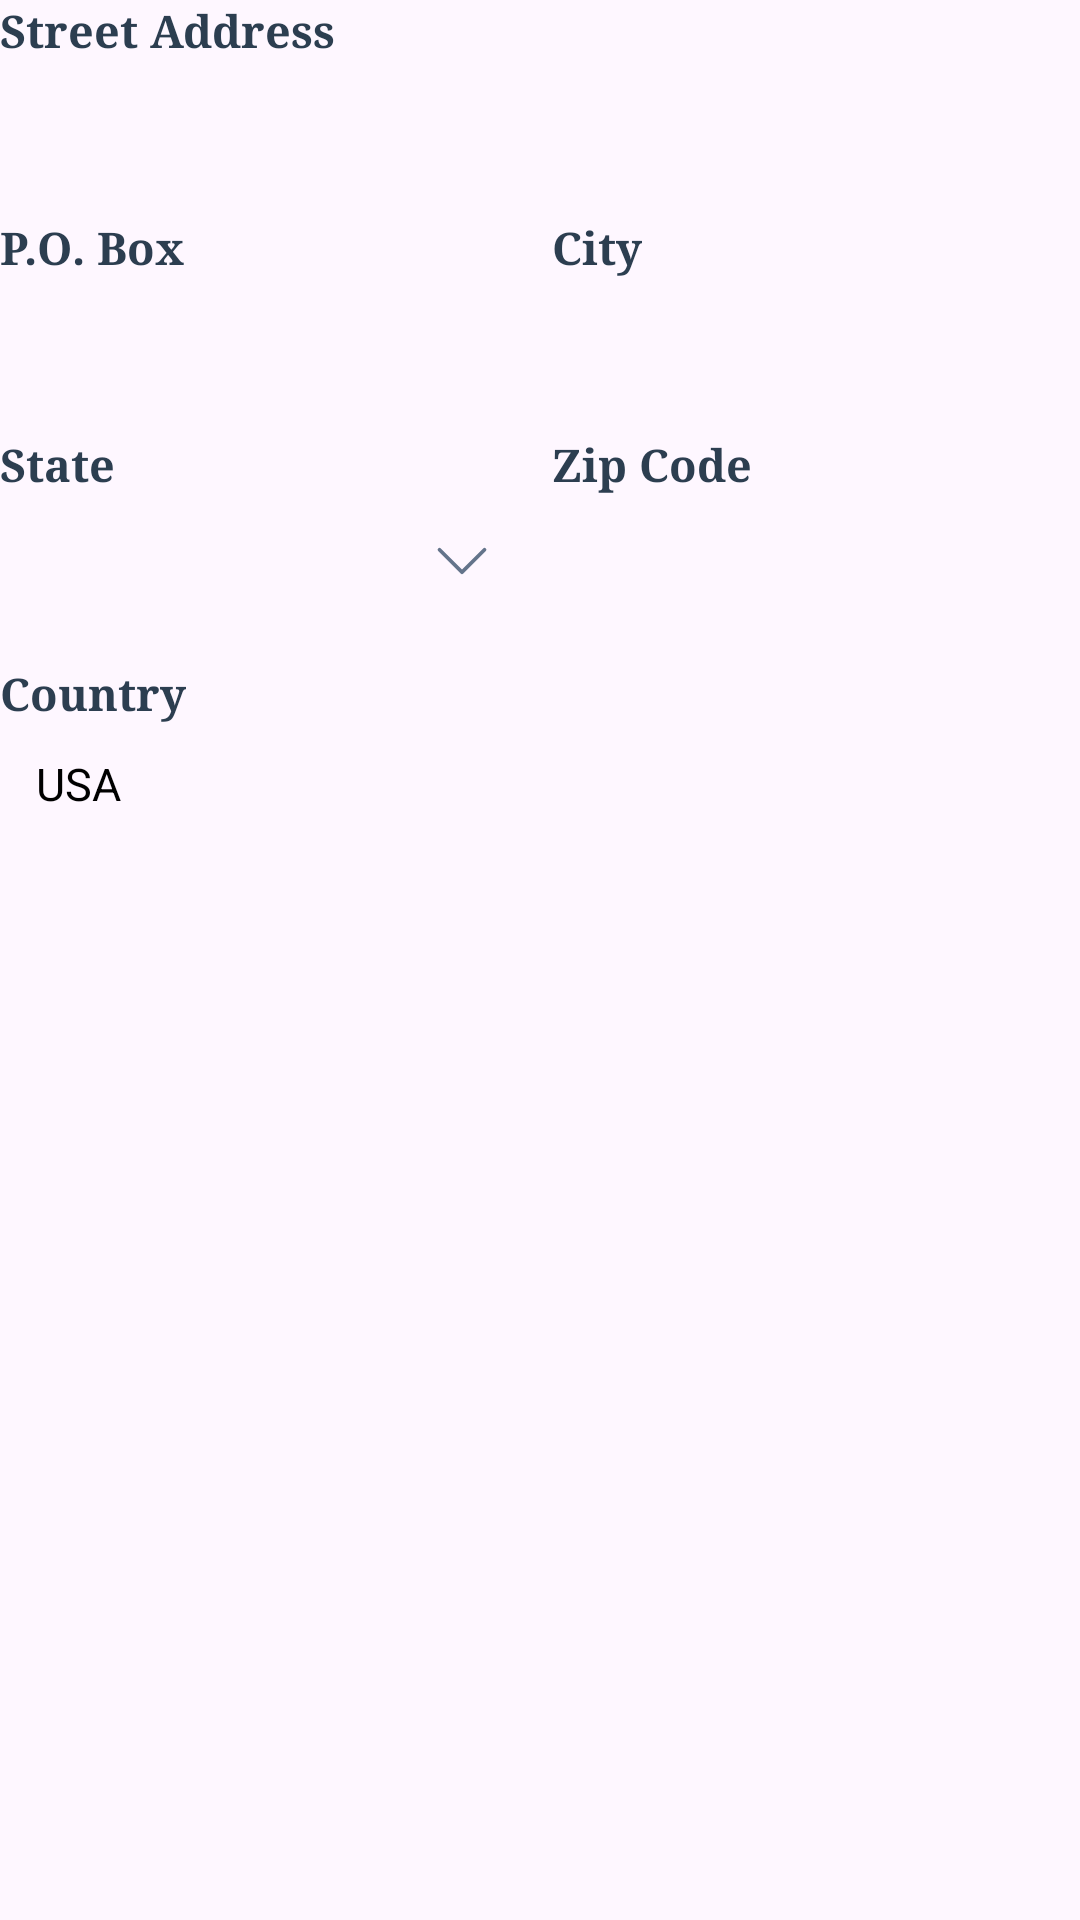

Point at icon controls on the screen. Image size 1080px×1920px, points as (x,y).
abajo: (462,560)
